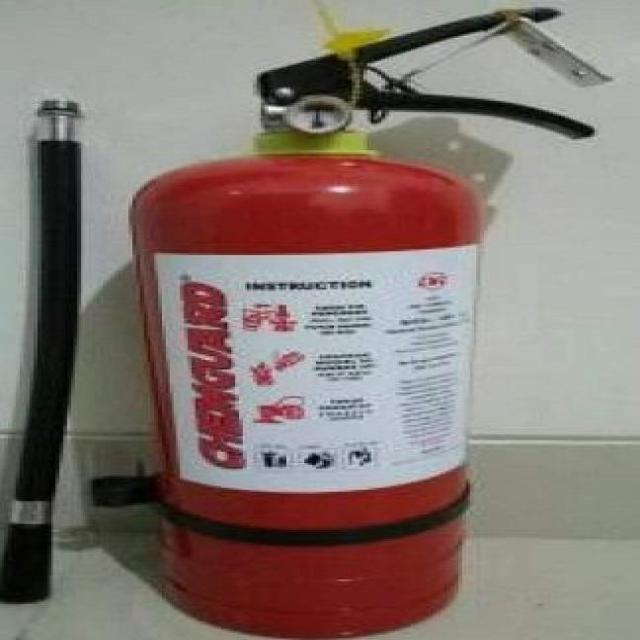fire_extinguisher: (102, 2, 603, 639)
